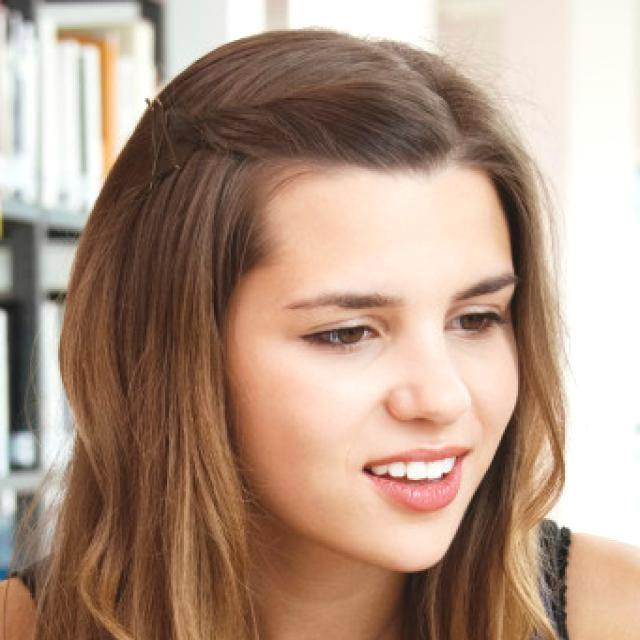Looking forward: (237, 169, 522, 579)
